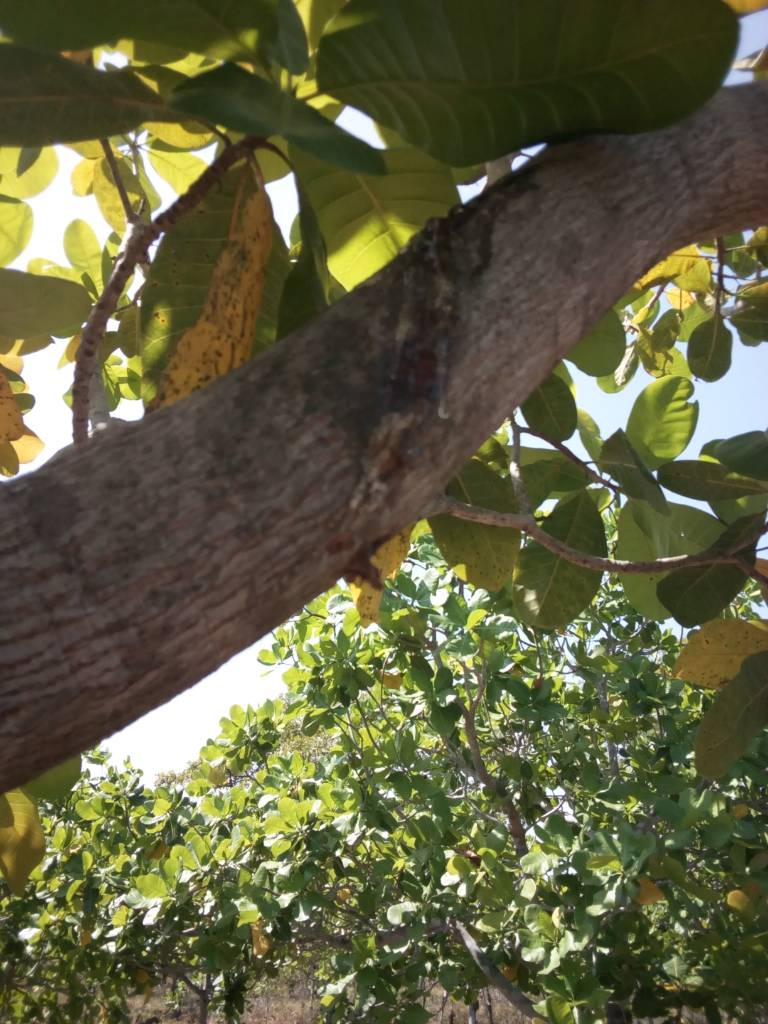Anthracnose: (122, 163, 279, 405), (679, 616, 768, 685)
